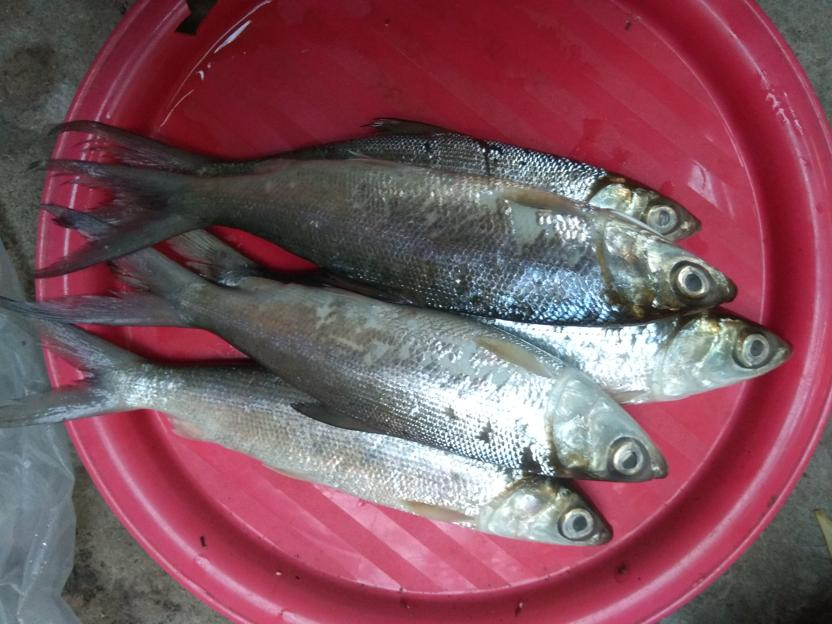Fish head: (597, 209, 740, 326), (648, 306, 794, 402), (546, 374, 669, 483), (488, 475, 615, 548), (588, 175, 703, 246)
Fish tail: (1, 201, 194, 327), (23, 158, 202, 280), (1, 296, 146, 427), (46, 118, 180, 225)
